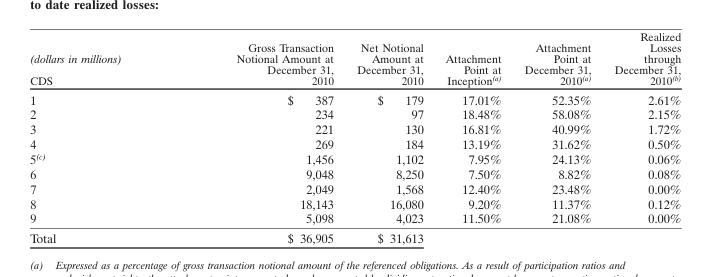table: (29, 29, 680, 245)
table column: (178, 29, 344, 245), (29, 29, 178, 245), (512, 29, 602, 245), (344, 29, 433, 245), (433, 29, 512, 245), (602, 29, 680, 245)
table column header: (29, 29, 680, 89)
table row: (29, 29, 680, 89), (29, 210, 680, 228), (29, 89, 680, 106), (29, 228, 680, 245), (29, 106, 680, 121), (29, 121, 680, 136), (29, 136, 680, 151), (29, 151, 680, 166), (29, 180, 680, 195), (29, 195, 680, 210), (29, 166, 680, 180)
